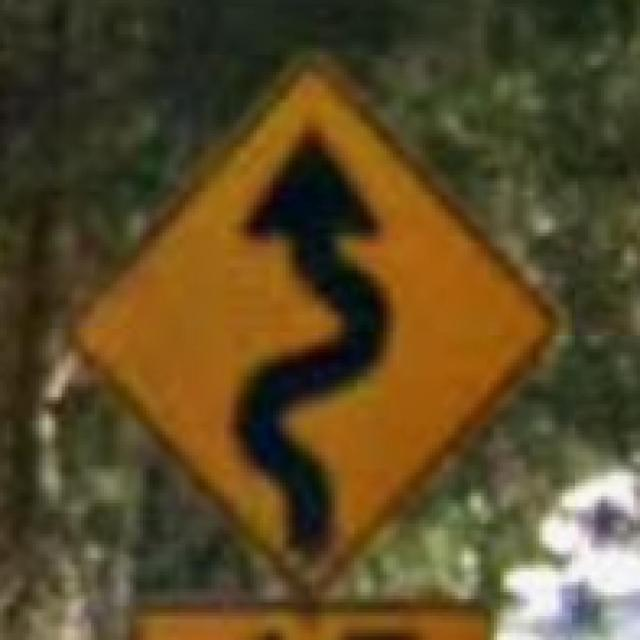Banyak Tikungan Pertama Kiri: (58, 44, 562, 606)
